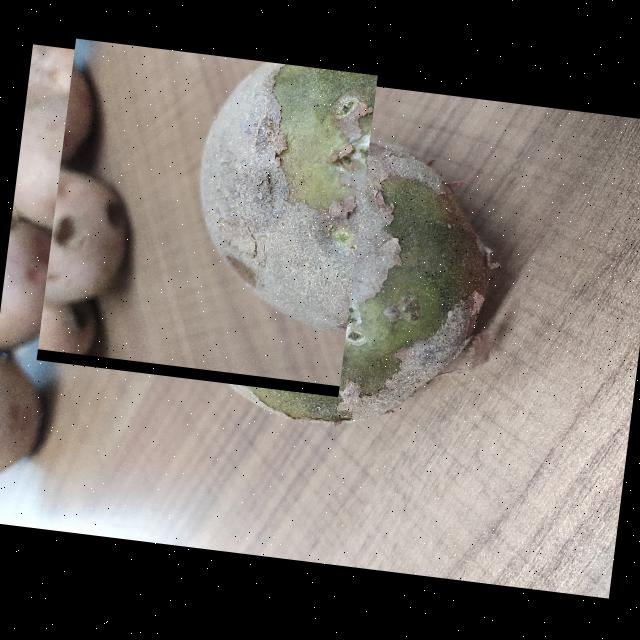Damaged potato: (36, 37, 377, 396)
